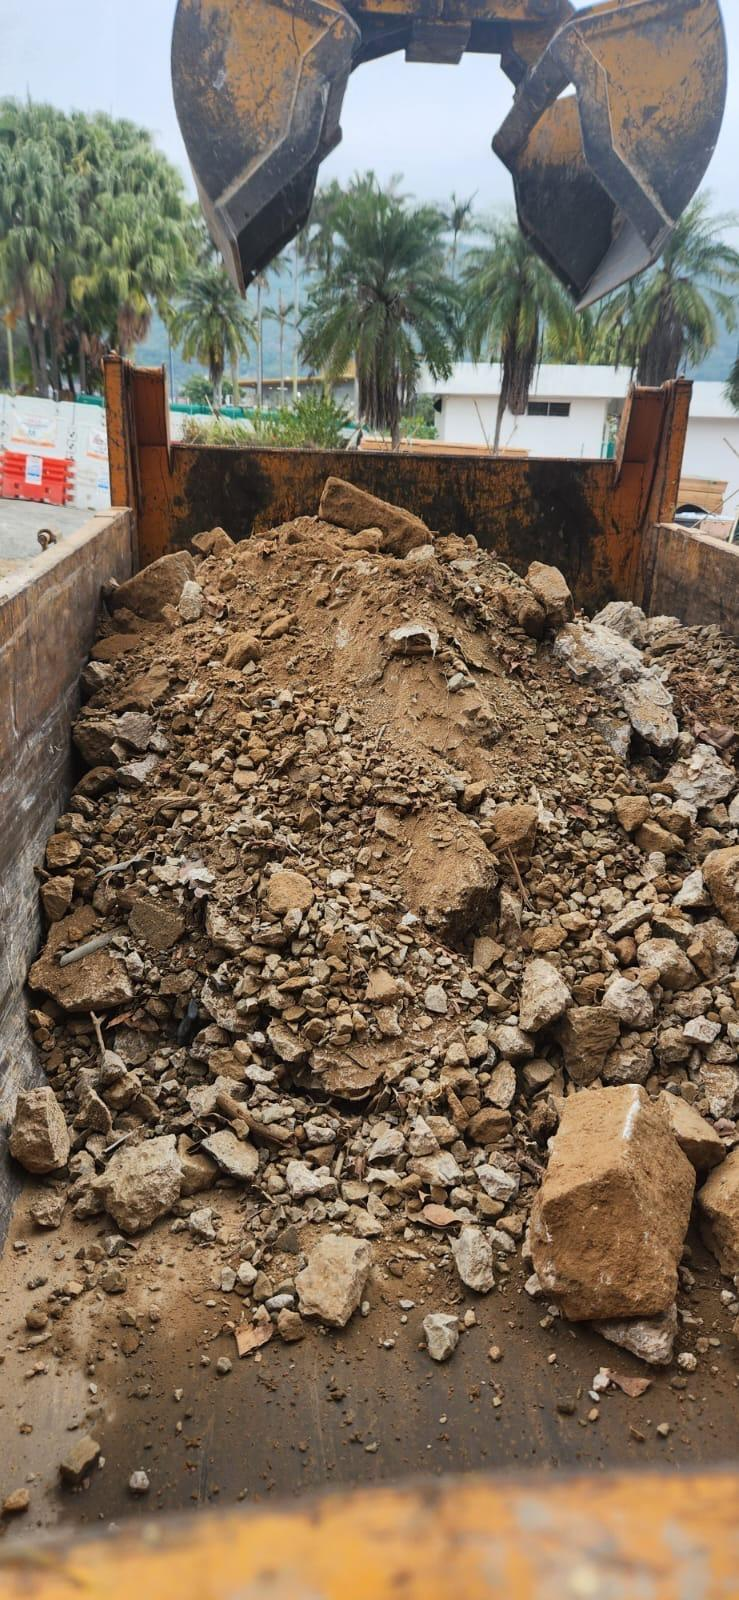dirt: (2, 497, 737, 1541)
stone: (523, 1082, 698, 1323), (396, 800, 502, 941), (97, 1133, 185, 1234), (293, 1233, 373, 1327), (8, 1085, 70, 1176), (448, 1224, 496, 1292), (421, 1311, 459, 1360)
